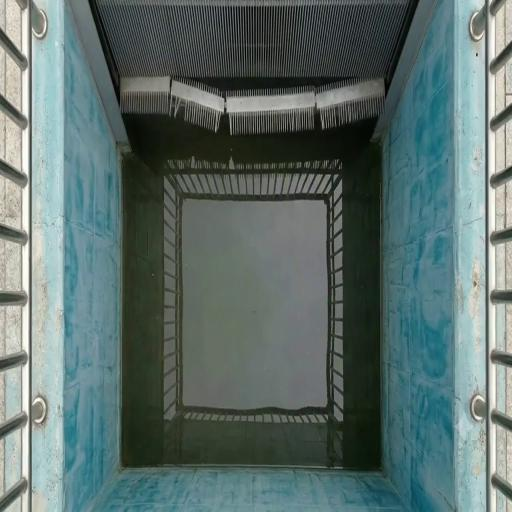rake_broken: (306, 68, 393, 139)
